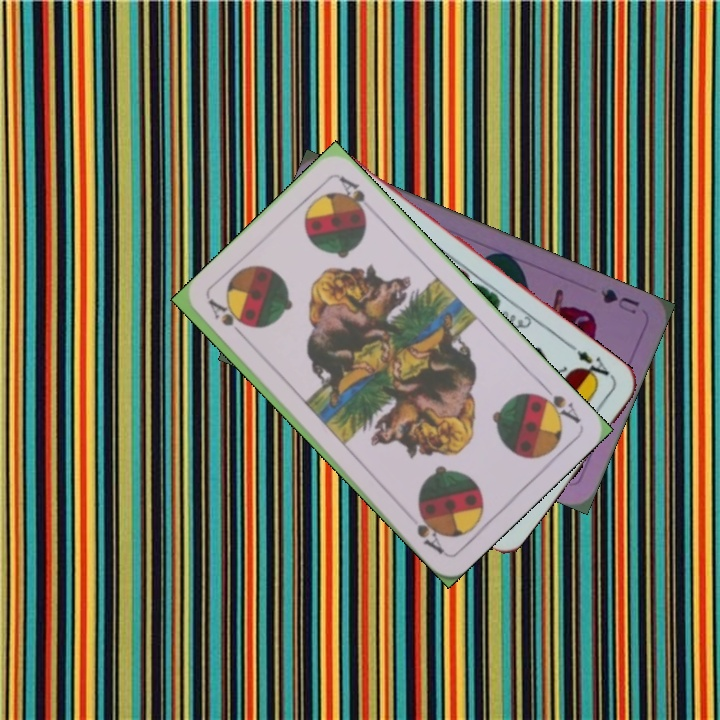EA: (572, 346, 617, 385)
GU: (596, 284, 642, 317)
SA: (531, 379, 583, 427), (205, 295, 250, 343)
